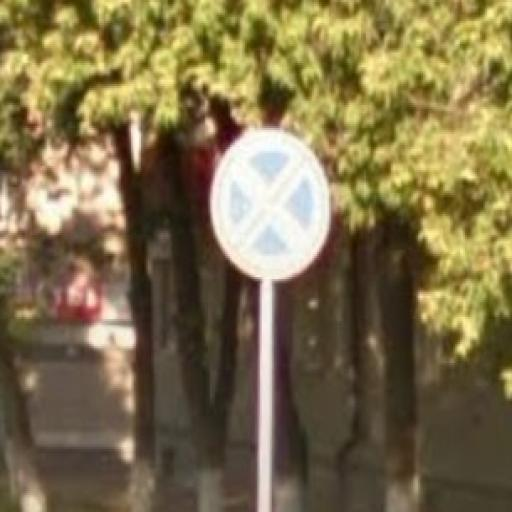traffic_sign: (213, 129, 332, 282)
